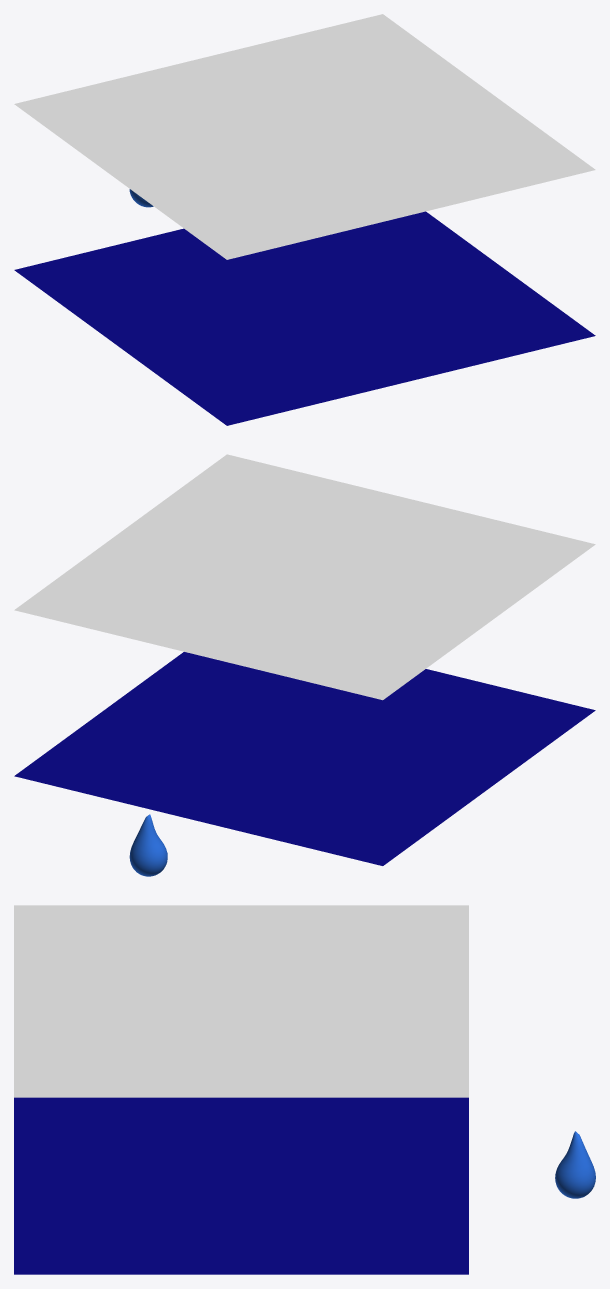
File: RainWithSaound.glb
3 renders of one model, top to bottom at view 1: azimuth 30°, elevation 25°; view 2: azimuth 150°, elevation 25°; view 3: azimuth 270°, elevation 25°, orthographic. The views are drawn at different scales.
Visible parts, largest first — view 1: Plane.001, Plane; view 2: Plane.001, Plane, Sphere; view 3: Plane.001, Plane, Sphere.
Part boxes in pixels (left/top/right/bottom): Plane.001: left=14, top=14, right=595, bottom=259; Plane: left=14, top=211, right=595, bottom=425; Plane.001: left=14, top=454, right=595, bottom=700; Plane: left=14, top=652, right=595, bottom=865; Sphere: left=129, top=814, right=167, bottom=876; Plane.001: left=14, top=905, right=468, bottom=1097; Plane: left=14, top=1097, right=468, bottom=1274; Sphere: left=555, top=1131, right=595, bottom=1198.
Bounding box in the file's own units: 13.83 × 6.56 × 17.69.
